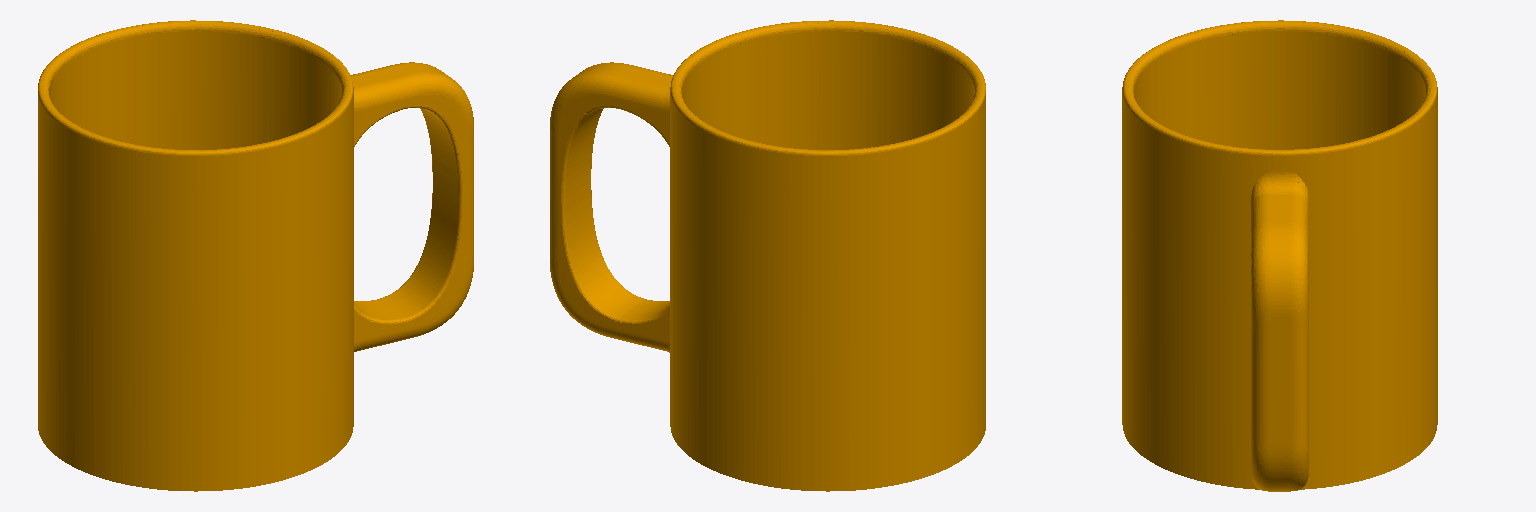
robot.urdf — Mug:
<?xml version="1.0"?>
<robot name="Mug">
  <link name="base_link">
    <inertial>
      <origin xyz="0.009561 -0.000000 0.040553" rpy="0 0 0" />
      <mass value="0.106239" />
      <inertia ixx="0.00016400" ixy="-0.00000000" ixz="-0.00000909"
               iyy="0.00022153" iyz="-0.00000000" izz="0.00018388" />
    </inertial>
    <visual>
      <geometry><mesh filename="Mug.stl" scale="1.0 1.0 1.0" /></geometry>
    </visual>
    <collision>
      <geometry><mesh filename="Mug_col.obj" scale="1.0 1.0 1.0" /></geometry>
    </collision>
    <contact>
      <lateral_friction value="1.0"/>
    </contact>
  </link>
</robot>

--- What the picture shows (computed from the rendered views, not written in the file) ---
The picture shows the robot from 3 angles, left to right: view 1: azimuth 30°, elevation 25°; view 2: azimuth 150°, elevation 25°; view 3: azimuth 270°, elevation 25°; orthographic projection.
Model Mug with 1 links and 0 joints (none), rooted at base_link, posed every joint at zero.
Links seen in each view (by area): view 1: base_link; view 2: base_link; view 3: base_link.
Boxes of the visible links, <box> form: base_link: <box>38,20,473,491</box>; base_link: <box>550,20,985,491</box>; base_link: <box>1122,20,1437,491</box>.
Size in the robot's own frame: 0.122 by 0.082 by 0.097 metres.
Meshes: 1 distinct files referenced, 1 mesh visuals loaded (1 binary STL).
